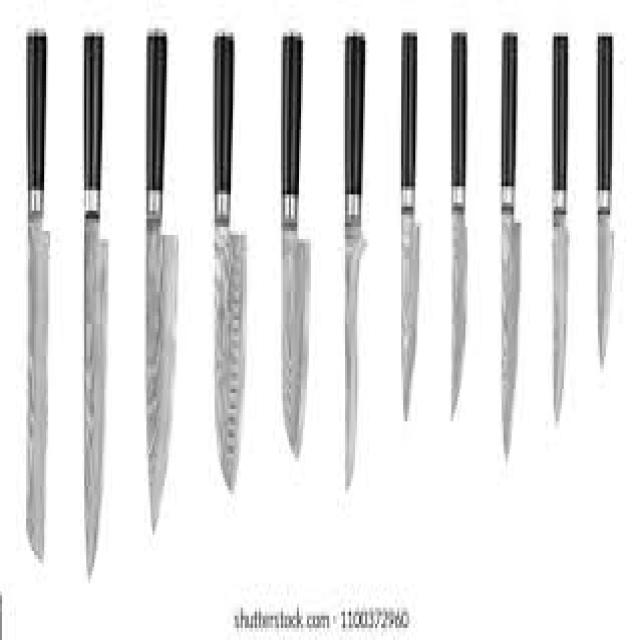Knife: (24, 24, 48, 559)
